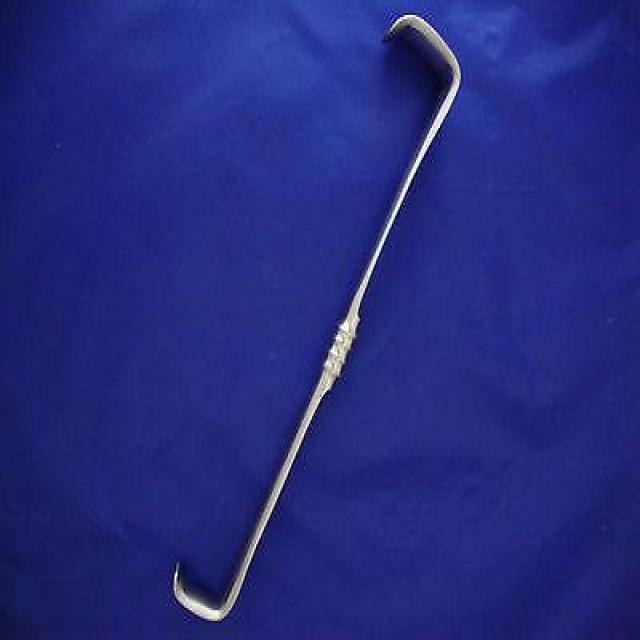Richardson: (170, 2, 466, 627)
